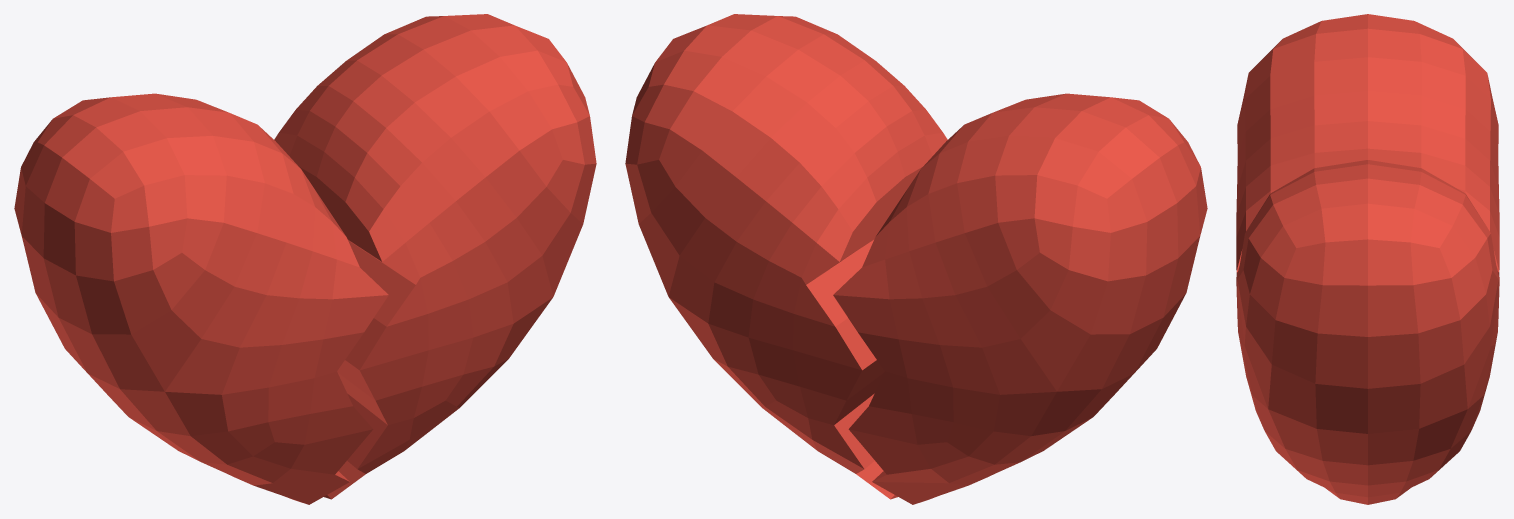
Rendered from heart_broken.glb.
3 views of the same model, side by side, from view 1: azimuth 30°, elevation 25°; view 2: azimuth 150°, elevation 25°; view 3: azimuth 270°, elevation 25° (orthographic). The views are drawn at different scales.
Visible parts, largest first — view 1: Heart_Broken; view 2: Heart_Broken; view 3: Heart_Broken.
Part boxes in pixels (left/top/right/bottom): Heart_Broken: left=14, top=14, right=596, bottom=504; Heart_Broken: left=625, top=14, right=1207, bottom=504; Heart_Broken: left=1236, top=14, right=1499, bottom=504.
Bounding box in the file's own units: 0.8377 × 0.6522 × 0.3927.
